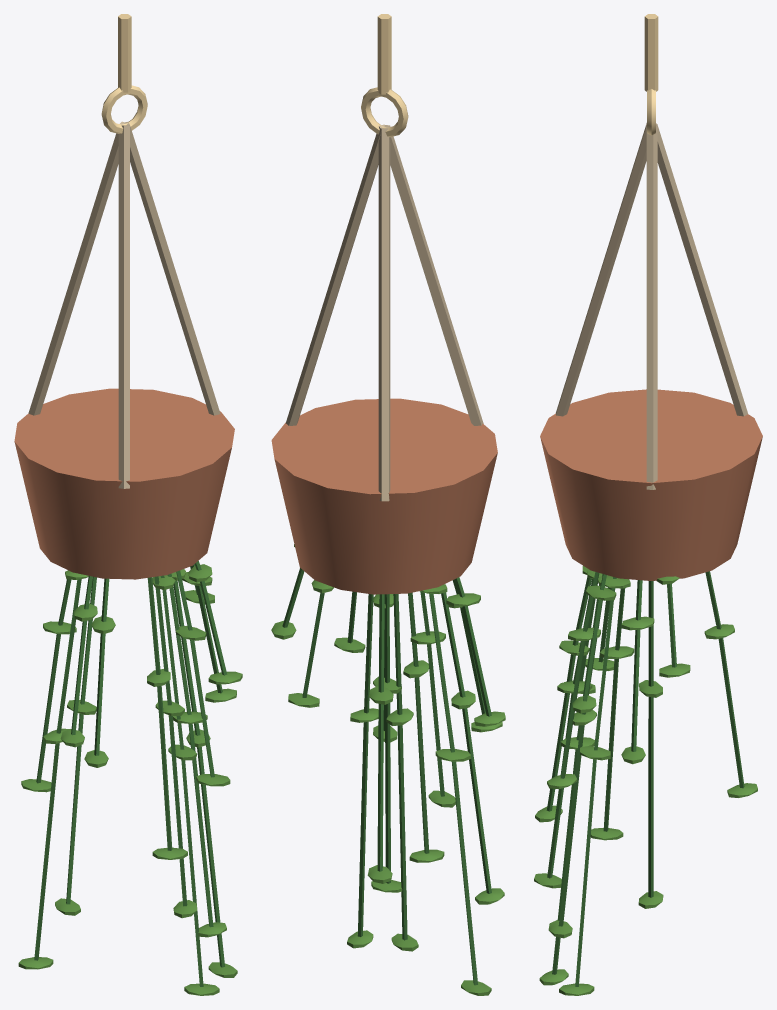
File: hanging_plant_1.glb
3 renders of one model, left to right at view 1: azimuth 30°, elevation 25°; view 2: azimuth 150°, elevation 25°; view 3: azimuth 270°, elevation 25°, orthographic. The views are drawn at different scales.
Visible parts, largest first — view 1: Hanging pot, Leaves, Hanger rope, Leaves light, Brass; view 2: Hanging pot, Leaves, Hanger rope, Leaves light, Brass; view 3: Hanging pot, Leaves, Hanger rope, Leaves light, Brass.
Part boxes in pixels (box(x1,y1,x2,y2)): Hanging pot: box(14, 388, 234, 579); Leaves: box(34, 561, 227, 986); Hanger rope: box(28, 121, 220, 488); Leaves light: box(18, 564, 242, 995); Brass: box(101, 14, 147, 133); Hanging pot: box(271, 398, 497, 594); Leaves: box(282, 568, 491, 985); Hanger rope: box(286, 124, 483, 501); Leaves light: box(271, 544, 505, 995); Brass: box(361, 14, 408, 137); Hanging pot: box(540, 389, 762, 580); Leaves: box(546, 571, 744, 986); Hanger rope: box(556, 123, 747, 489); Leaves light: box(534, 566, 757, 995); Brass: box(644, 14, 658, 135).
Size of the model in its own units: 0.2787 by 1.22 by 0.267.
